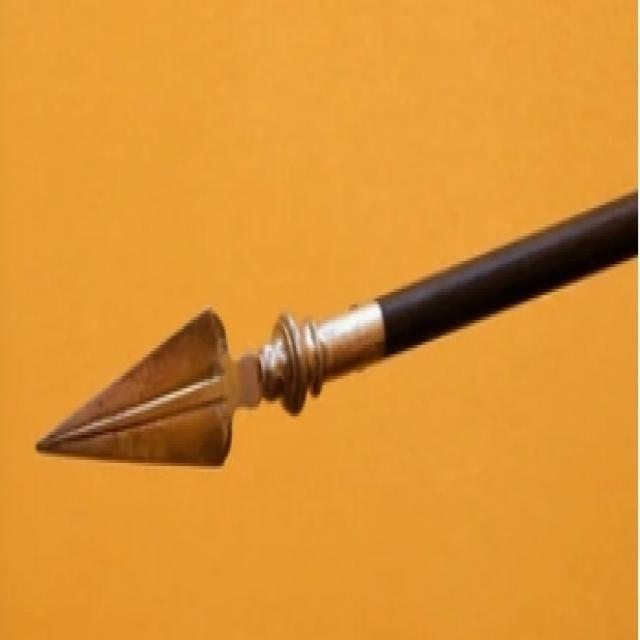spear: (26, 184, 636, 572)
